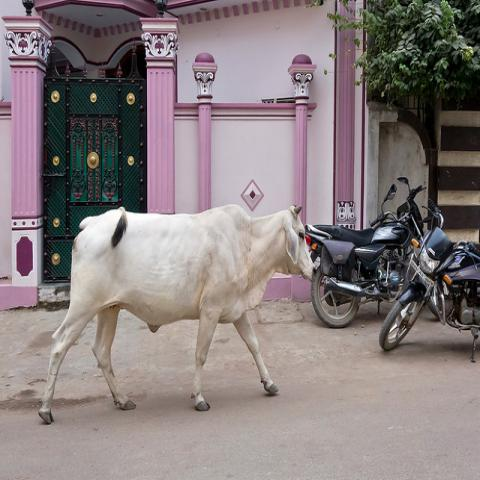motorcycle: (312, 172, 426, 323), (382, 211, 479, 353)
